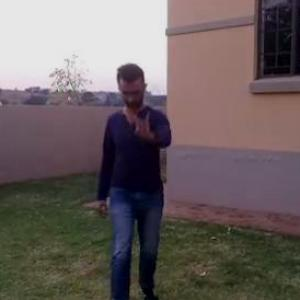takeoff-hand: (124, 105, 158, 145)
